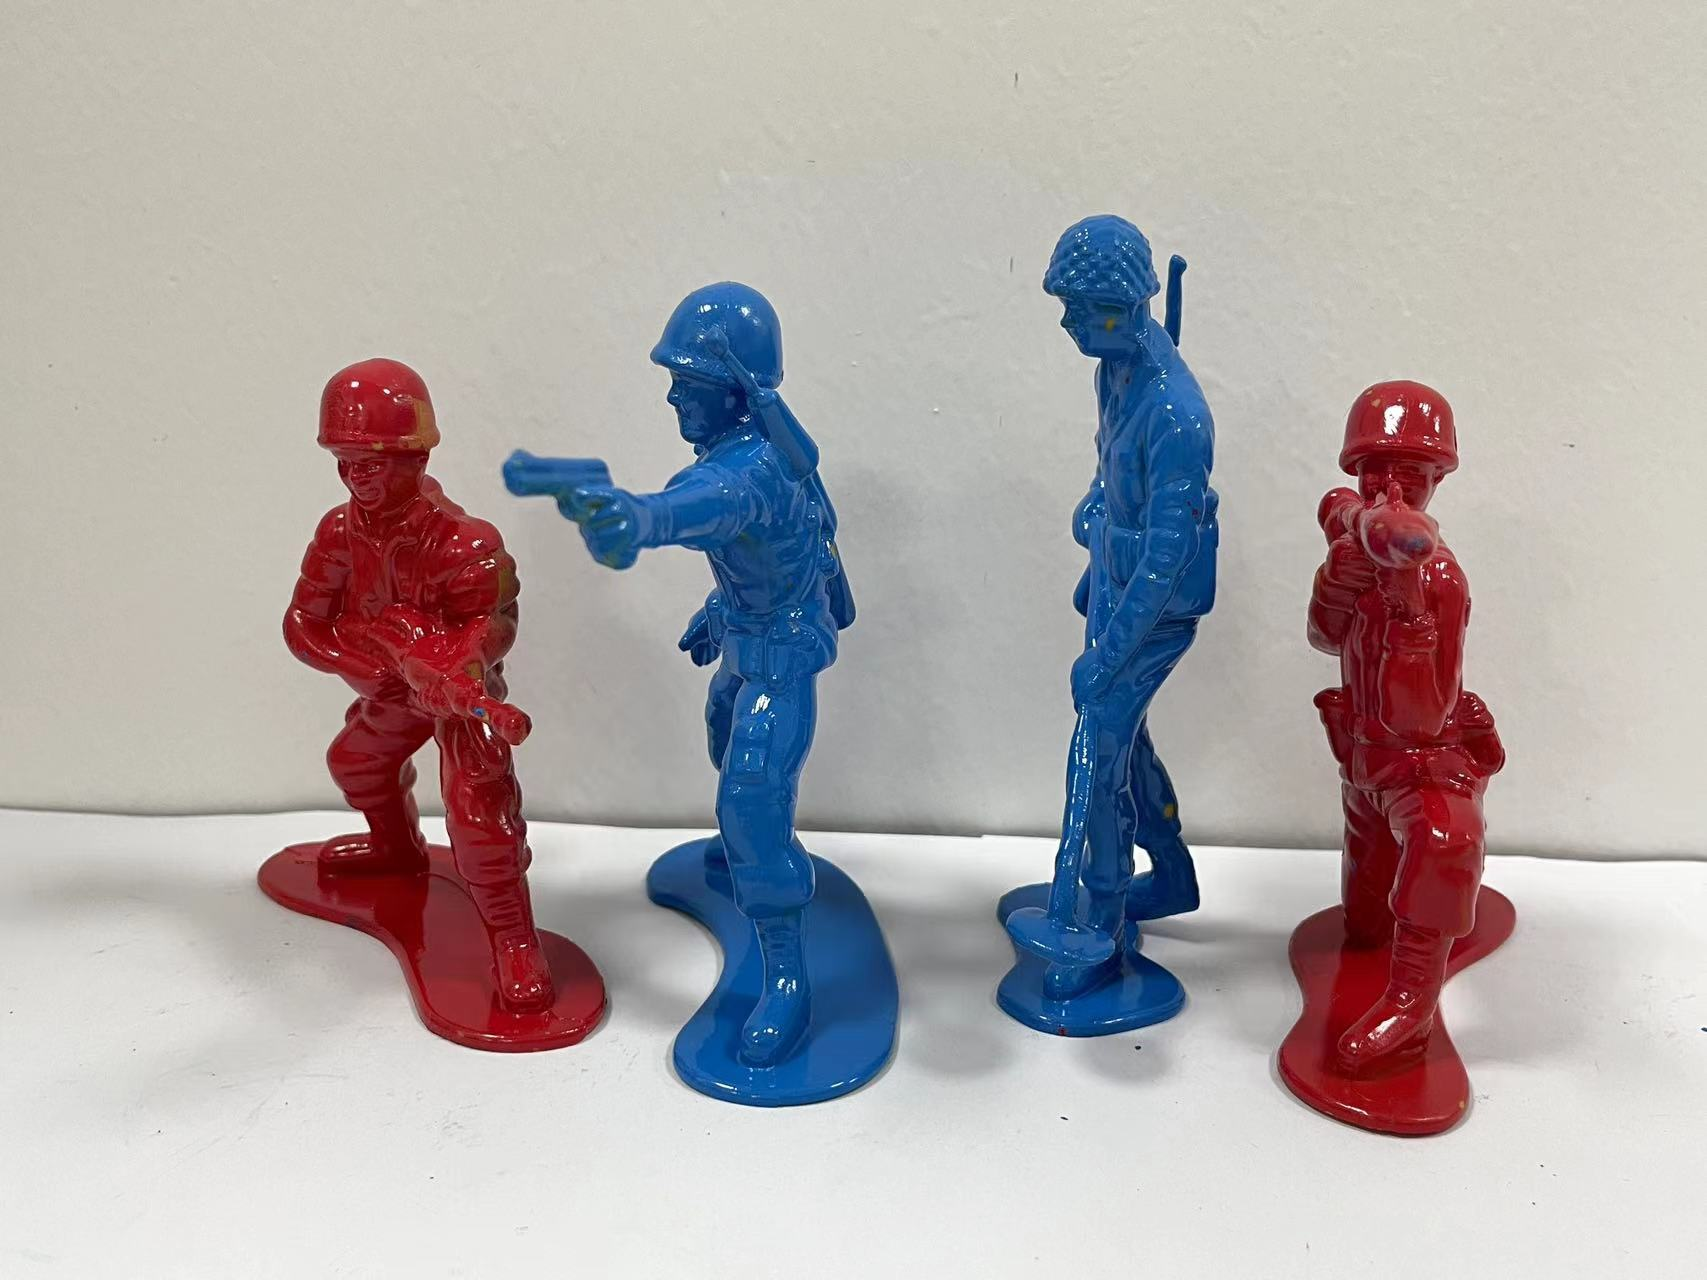blue: (497, 242, 944, 1147), (949, 202, 1284, 1092)
red: (208, 321, 613, 1082), (1266, 358, 1560, 1182)
